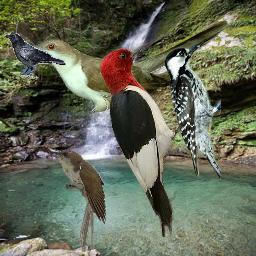Crow: (4, 33, 66, 79)
Cuckoo: (25, 19, 228, 112), (49, 149, 106, 252)
Woodpecker: (98, 41, 198, 237), (164, 41, 221, 181)
